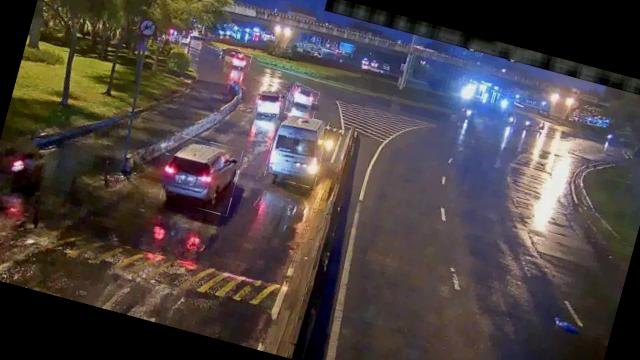Bus: (262, 109, 330, 188)
Car: (158, 134, 244, 216), (252, 84, 288, 118), (286, 97, 317, 125), (288, 82, 319, 108), (224, 49, 252, 70)
